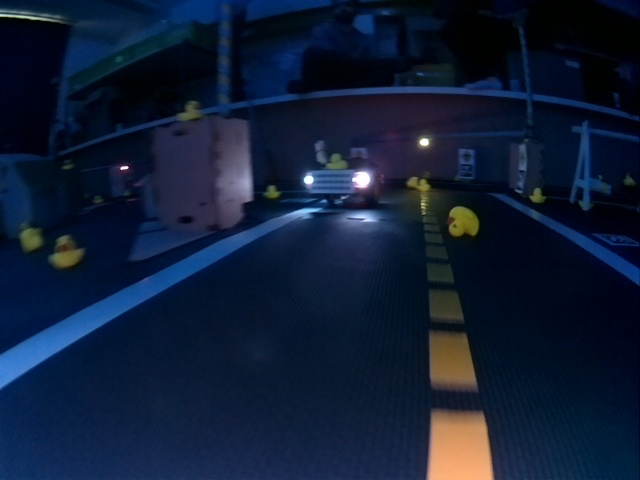Duckie: (49, 236, 85, 267), (447, 206, 479, 237), (178, 101, 200, 119), (327, 154, 347, 168), (264, 184, 278, 197), (530, 188, 542, 202), (419, 180, 429, 190), (408, 177, 418, 185)
Duckiebot: (304, 159, 380, 208)
QR code: (596, 231, 633, 246), (458, 165, 474, 178), (515, 170, 524, 192)
Traffic light: (418, 136, 432, 148)
